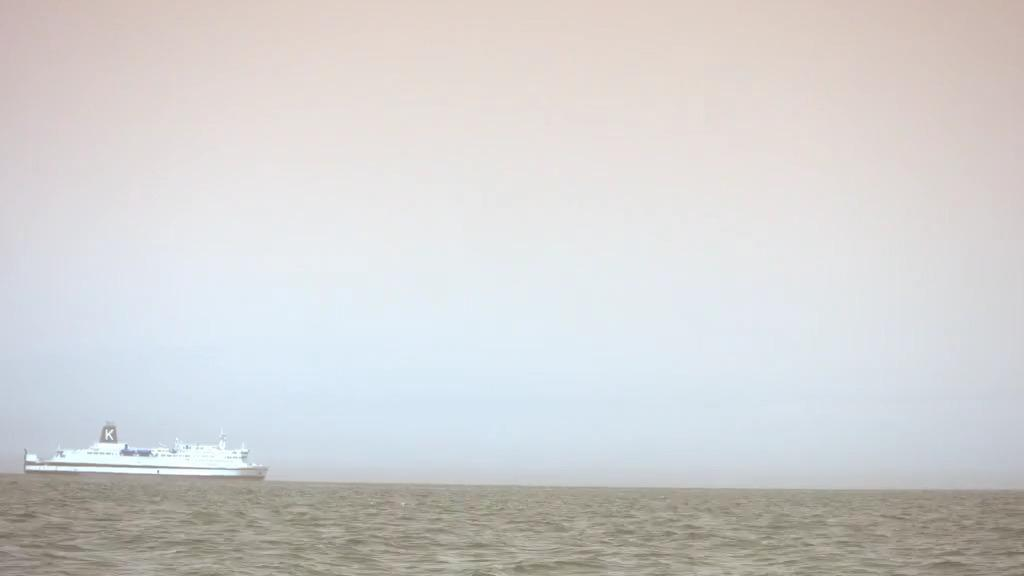PassengerShip: (18, 416, 272, 480)
